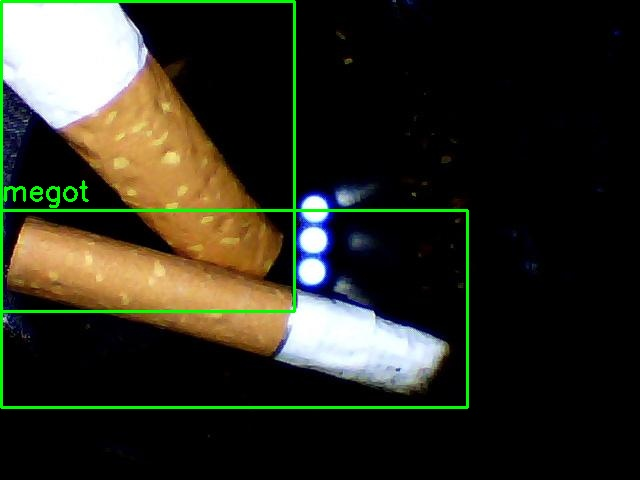megot: (1, 210, 467, 407), (1, 1, 294, 311)
